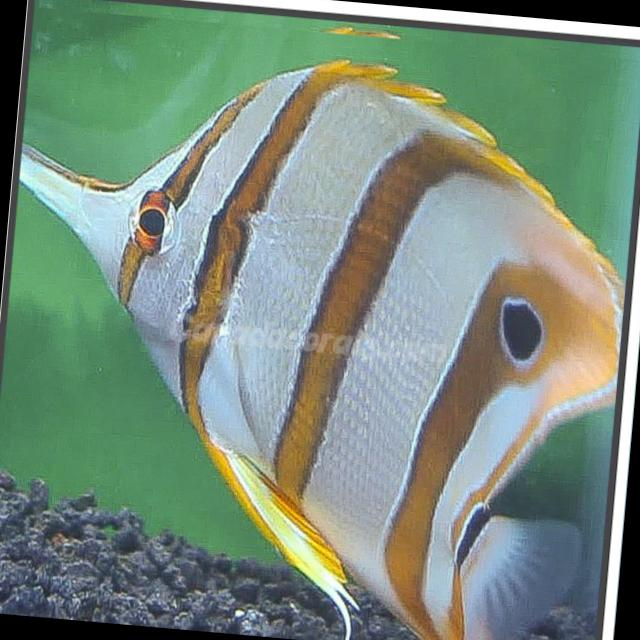ButterflyFish: (0, 35, 637, 640)
